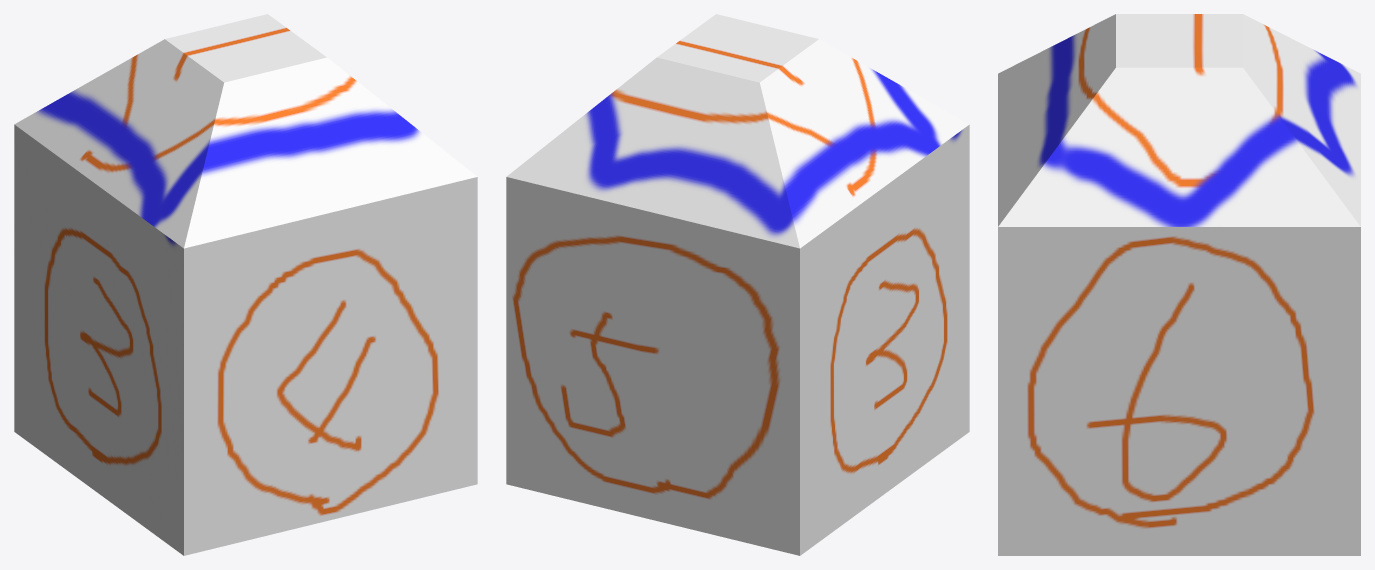
File: FBXTestObject.fbx
3 renders of one model, left to right at view 1: azimuth 30°, elevation 25°; view 2: azimuth 150°, elevation 25°; view 3: azimuth 270°, elevation 25°, orthographic. The views are drawn at different scales.
Parts seen in each view (by area): view 1: Cube; view 2: Cube; view 3: Cube.
Boxes of the visible parts, x1=… form: Cube: x1=14, y1=14, x2=477, y2=555; Cube: x1=506, y1=14, x2=969, y2=555; Cube: x1=998, y1=14, x2=1360, y2=555.
Bounding box in the file's own units: 200 × 267 × 200.
1 material, 1 textured.
